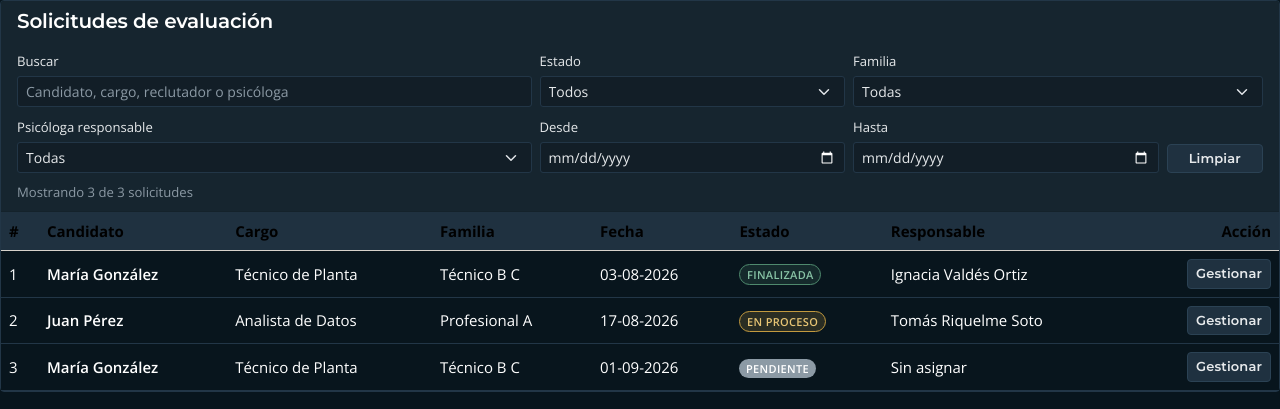
Test: ListaSolicitudes › filtra por estado seleccionado
Select "Pendiente" in the dropdown labelled "Estado" at (692, 92), box [540,76,845,107]
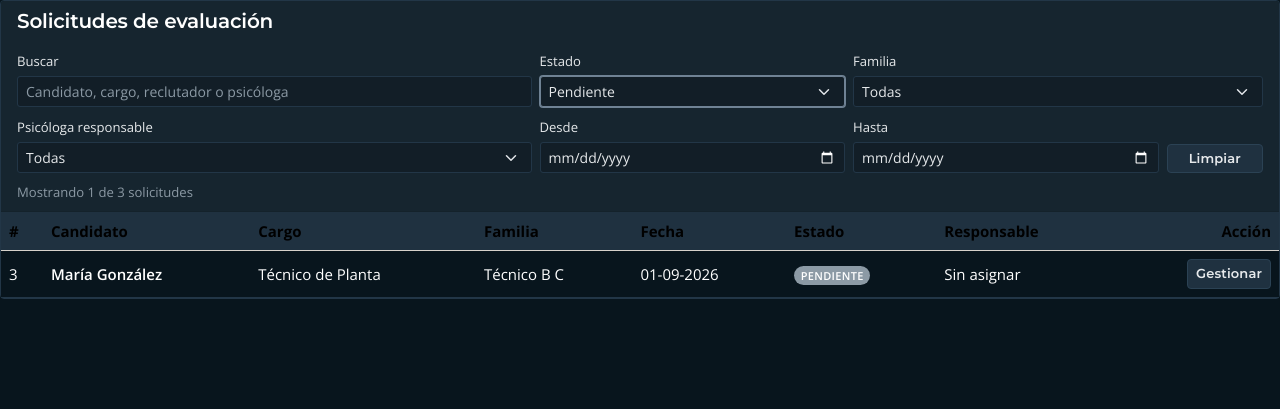
Now the number of rows is 2, box [1,212,1279,250]; [1,250,1279,297]
Now the text "Mostrando 1 de 3 solicitudes" is shown, box [17,183,193,201]
